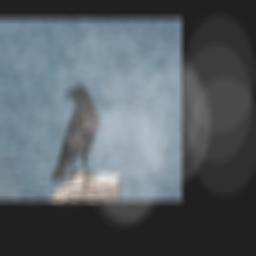Crow: (50, 85, 99, 184)
